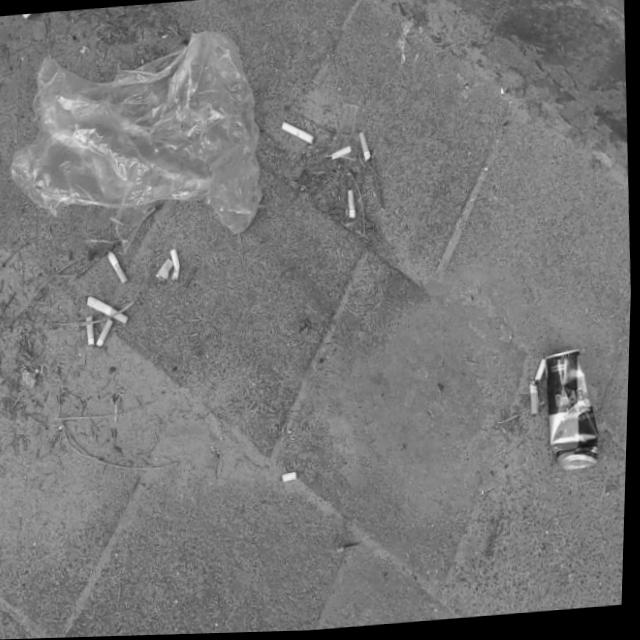Can-Metal: (542, 349, 608, 479)
